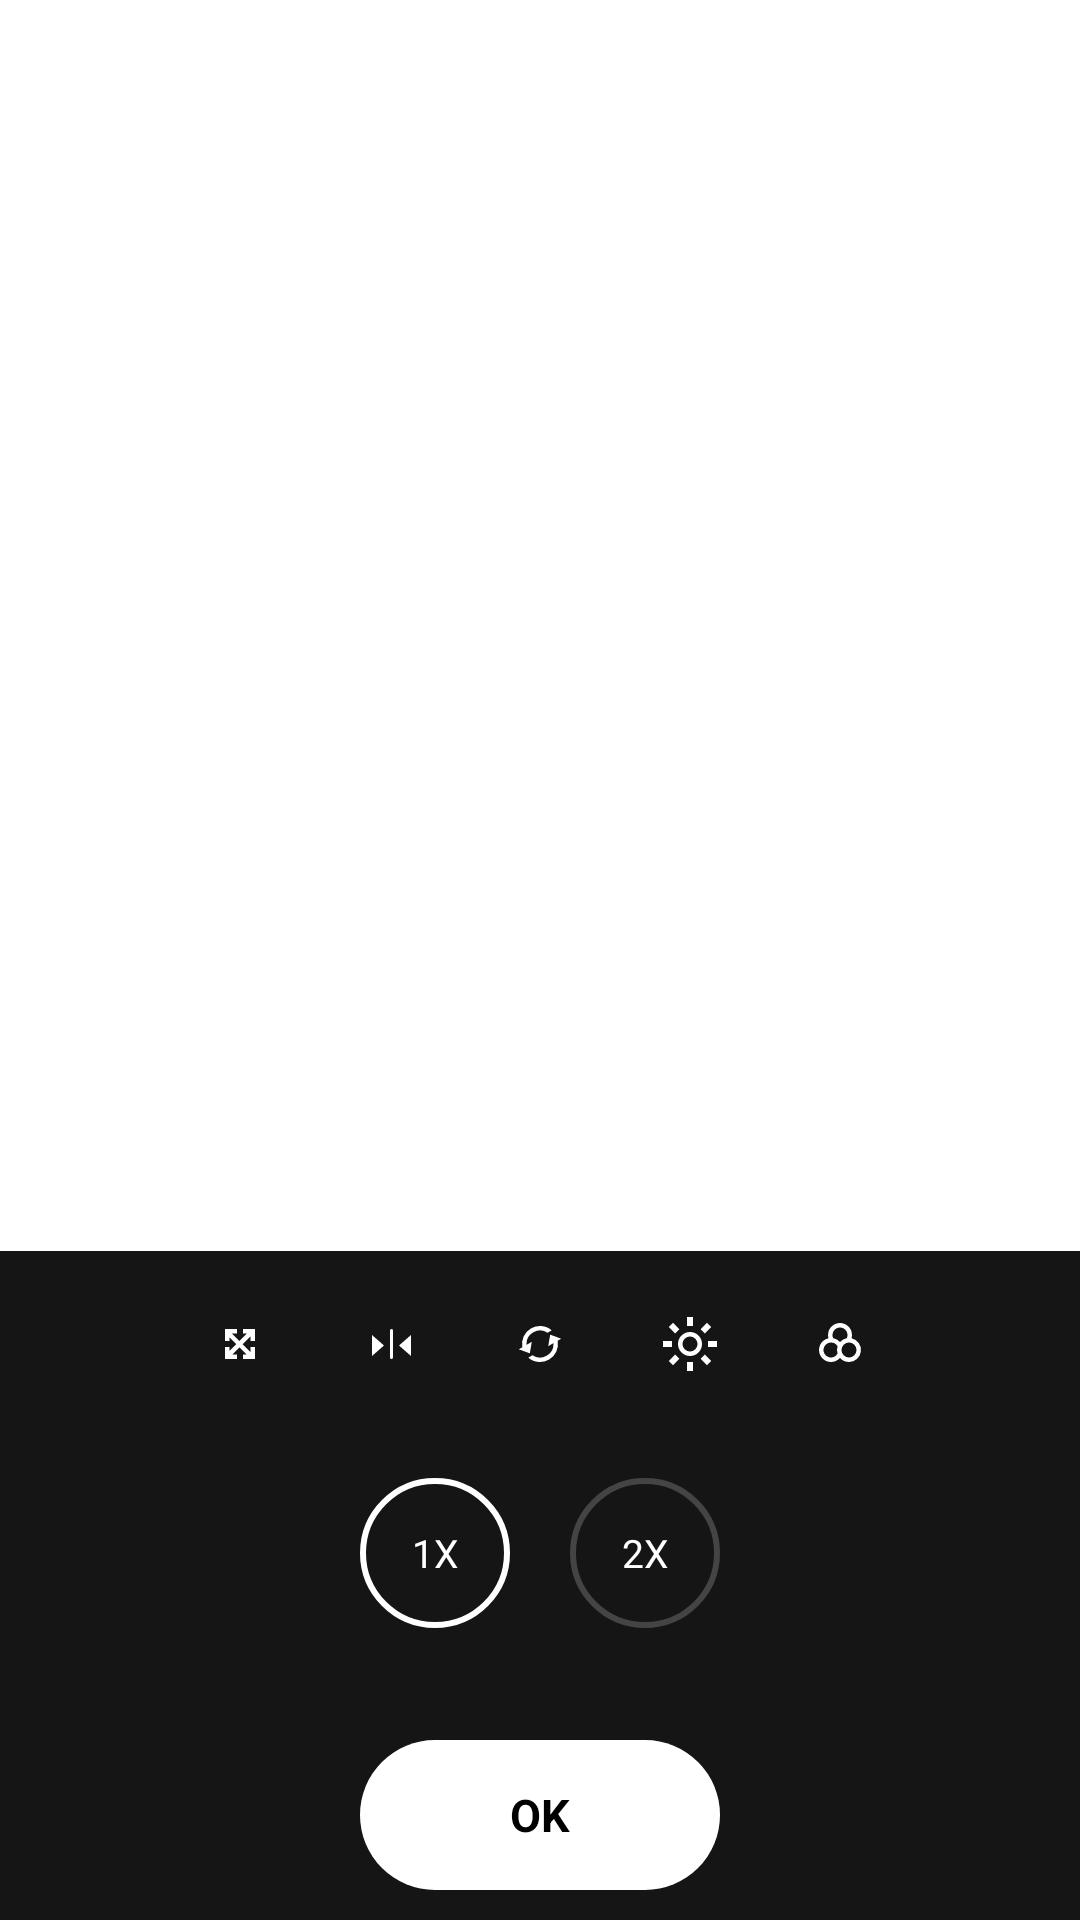

Where icons sit on this 1080x1920 app screen, as [left=x1, top=y1, right=x2, bottom=y2]:
reversed: [left=372, top=1329, right=411, bottom=1359]
rotate: [left=519, top=1326, right=561, bottom=1362]
size: [left=225, top=1329, right=255, bottom=1359]
